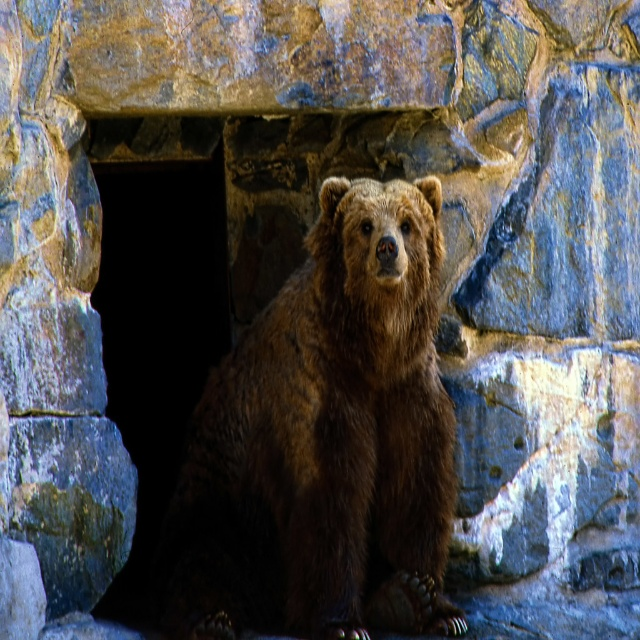Brown bear: (182, 174, 469, 639)
